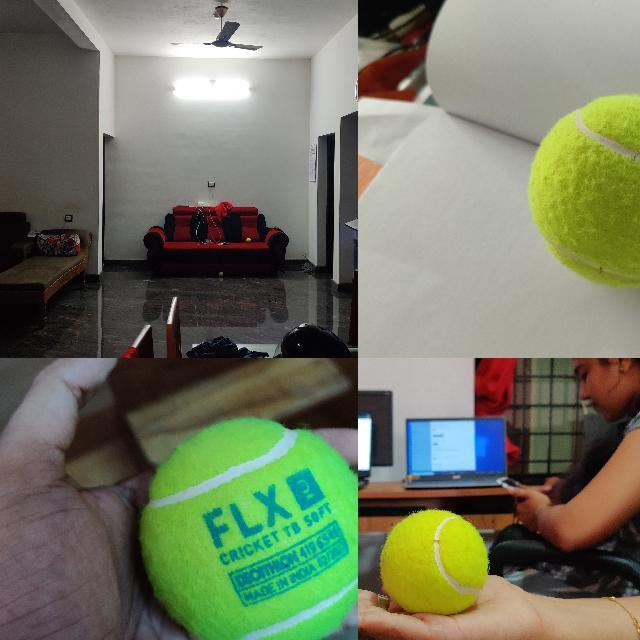tennis-ball: (139, 420, 357, 639), (526, 92, 639, 290), (382, 510, 487, 610), (246, 238, 250, 242), (219, 272, 223, 276)
